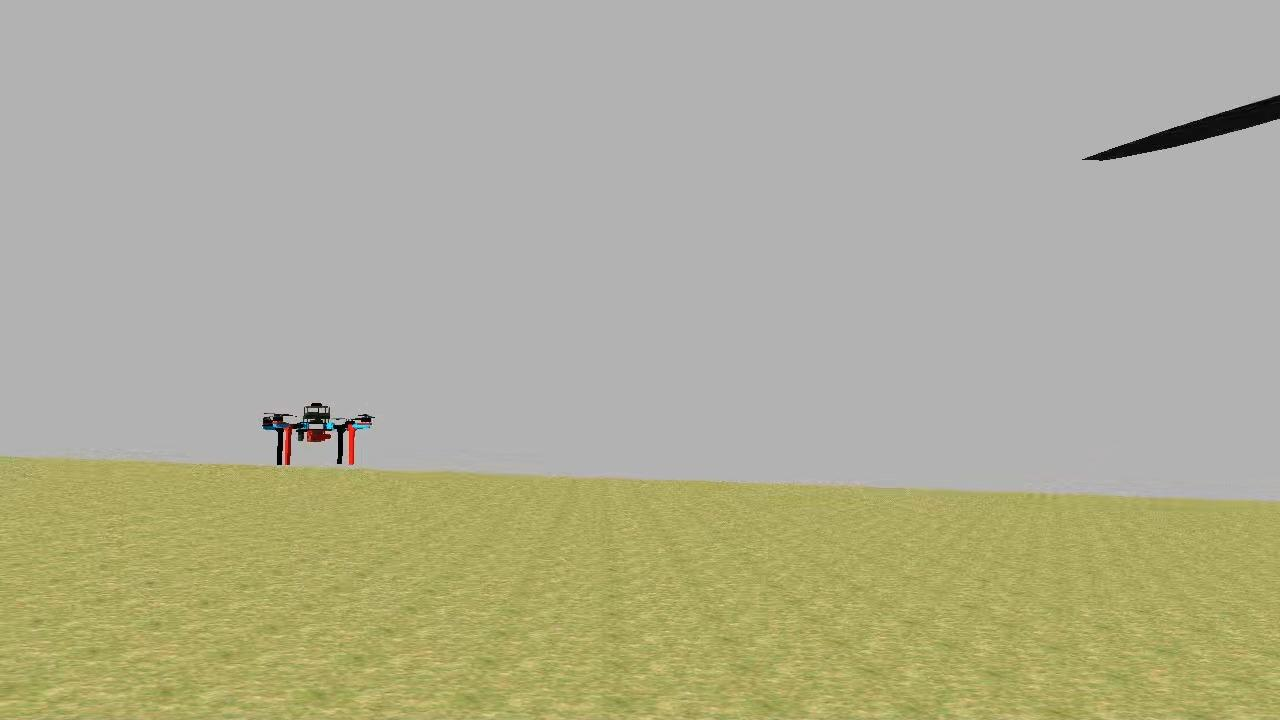UAV: (256, 398, 376, 472)
